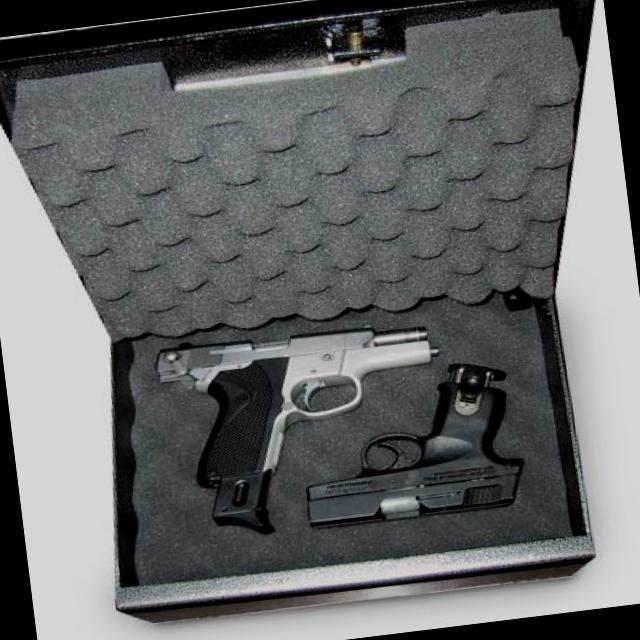handgun: (154, 312, 452, 489), (288, 372, 546, 528)
